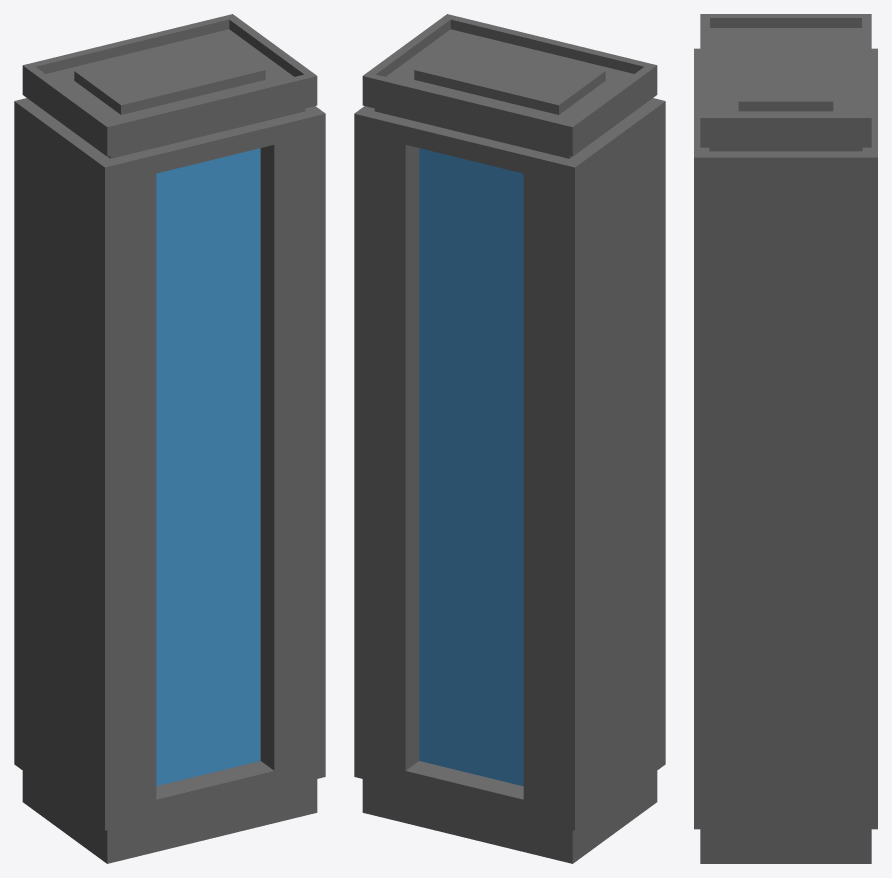
Rendered from eDIFICIL6.fbx.
3 renders of one model, left to right at view 1: azimuth 30°, elevation 25°; view 2: azimuth 150°, elevation 25°; view 3: azimuth 270°, elevation 25°, orthographic.
Parts seen in each view (by area): view 1: Highrise_4; view 2: Highrise_4; view 3: Highrise_4.
Part boxes in pixels (<box>): Highrise_4: <box>14,14,325,863</box>; Highrise_4: <box>354,14,665,863</box>; Highrise_4: <box>694,14,877,863</box>.
Size of the model in its own units: 1535 by 4892 by 1093.
